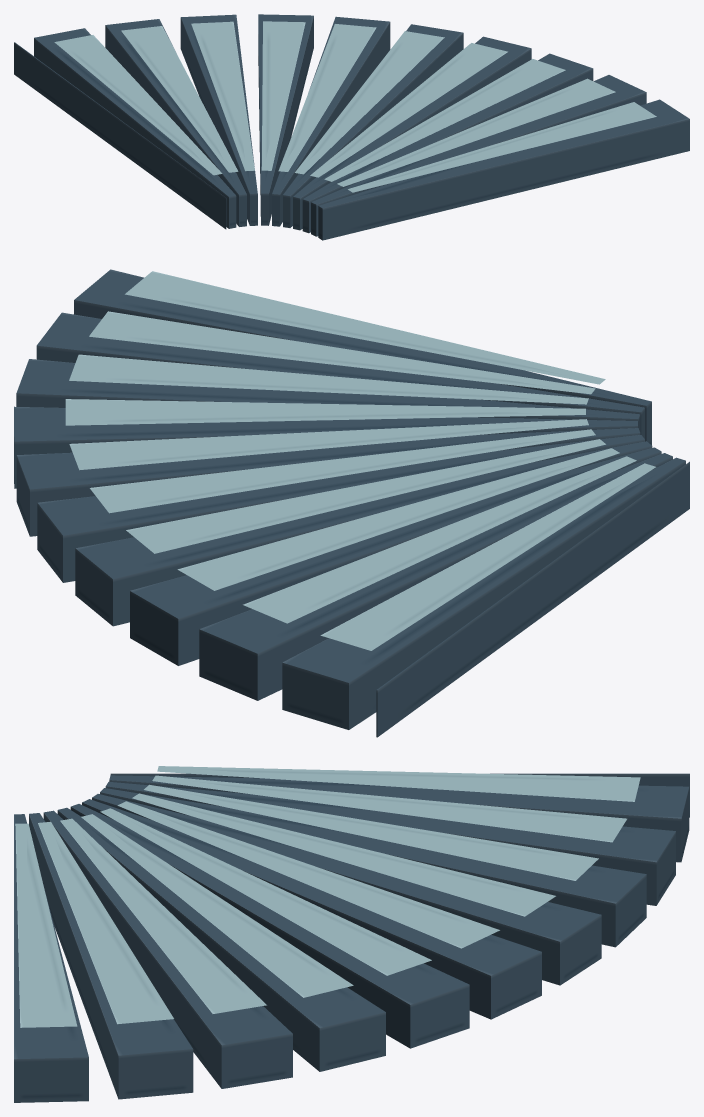
The model's file is sc_tread_curve_left_7.obj.
3 renders of one model, top to bottom at view 1: azimuth 30°, elevation 25°; view 2: azimuth 150°, elevation 25°; view 3: azimuth 270°, elevation 25°, orthographic. The views are drawn at different scales.
Size of the model in its own units: 17.5 by 1.56 by 17.5.
Materials: 1 (1 with a texture image).
